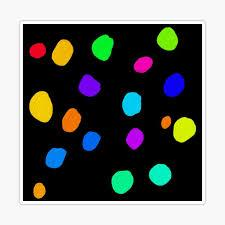cell: (30, 92, 52, 123), (174, 118, 196, 143), (52, 39, 73, 65), (79, 73, 100, 98), (112, 170, 133, 194), (148, 164, 171, 185), (93, 36, 112, 60), (122, 92, 141, 116), (62, 108, 81, 132), (164, 74, 184, 96), (158, 28, 178, 49), (46, 148, 66, 168), (126, 129, 144, 150), (30, 41, 46, 60), (133, 57, 152, 72), (84, 132, 99, 151), (34, 183, 46, 198), (161, 116, 170, 128)
